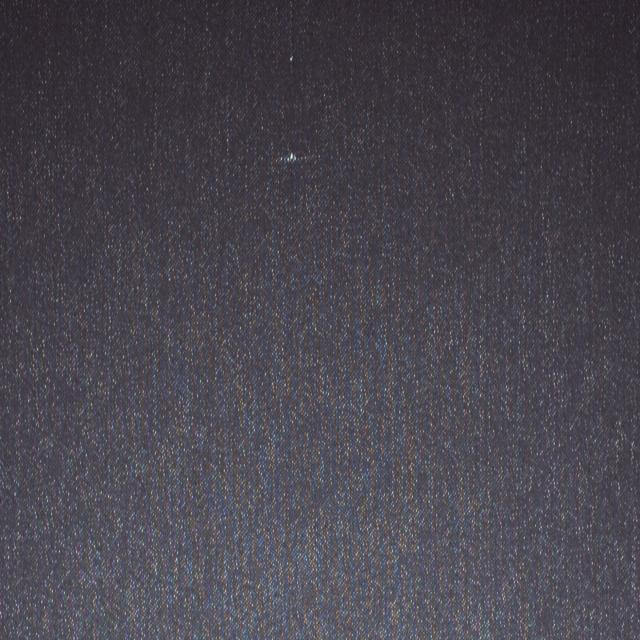Knot: (274, 151, 315, 166)
